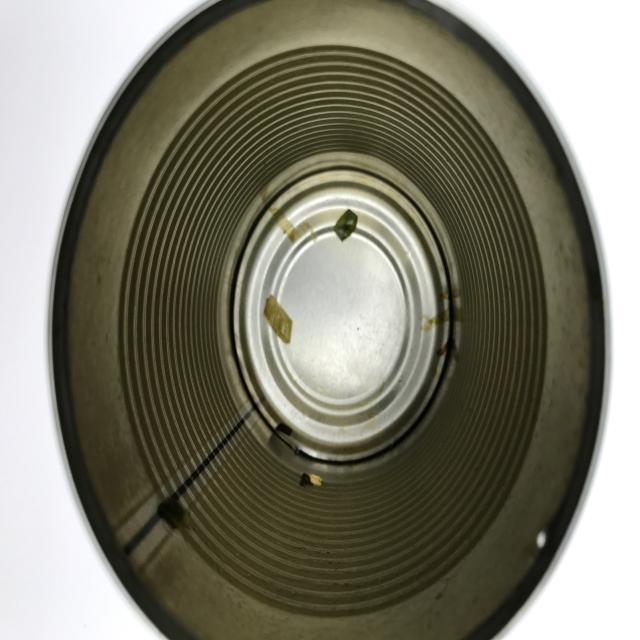metal: (41, 1, 612, 640)
